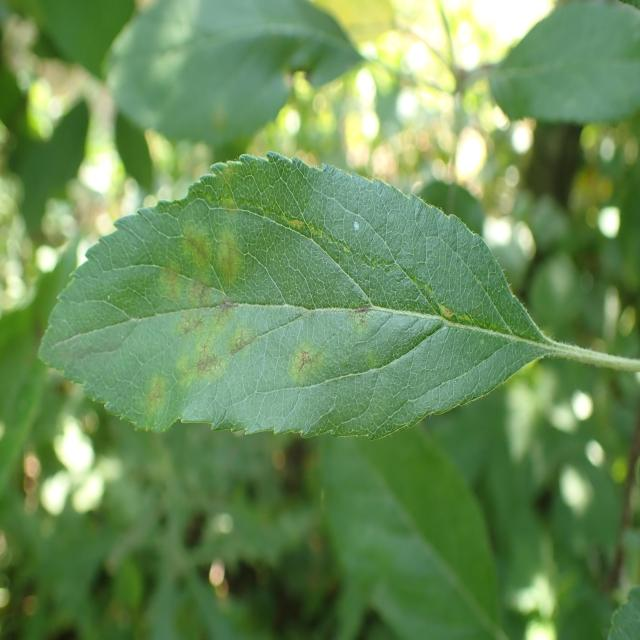scab: (105, 198, 488, 464)
